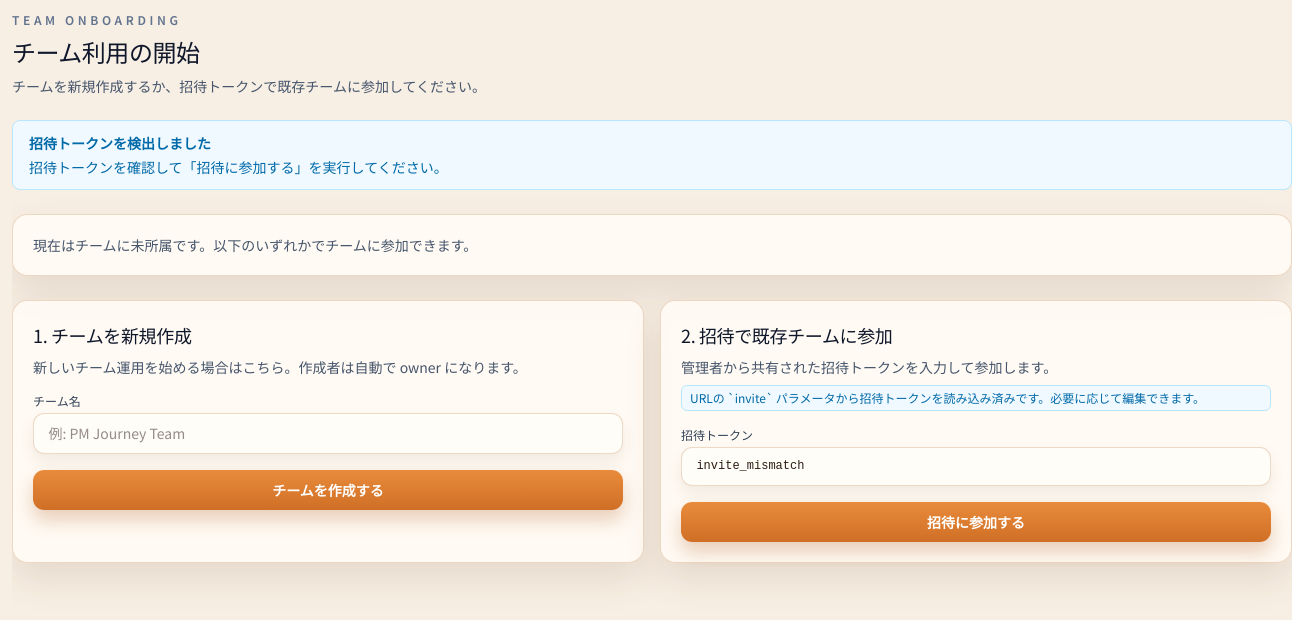
Test: TeamOnboardingPage › shows dedicated email mismatch messaging
Click the button "招待に参加する": (976, 522) [681,502,1271,542]
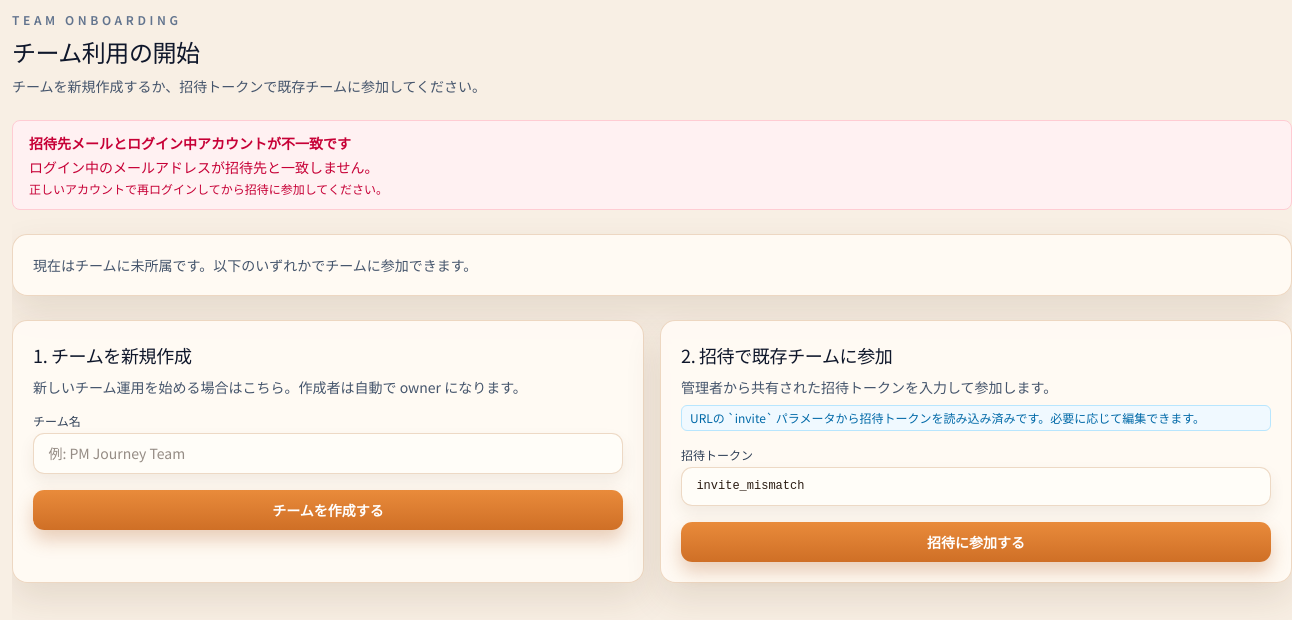
Now the text "招待先メールとログイン中アカウントが不一致です" is shown, box [29,133,351,153]
Now the text "ログイン中のメールアドレスが招待先と一致しません。" is shown, box [29,157,379,177]
